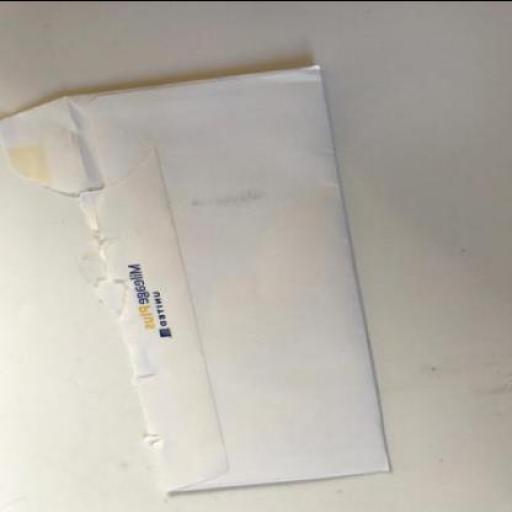paper: (1, 66, 398, 496)
